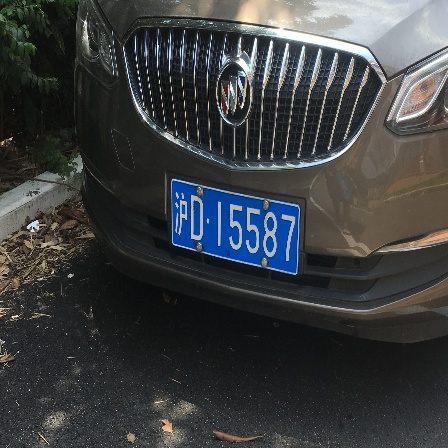plate: (170, 172, 301, 278)
